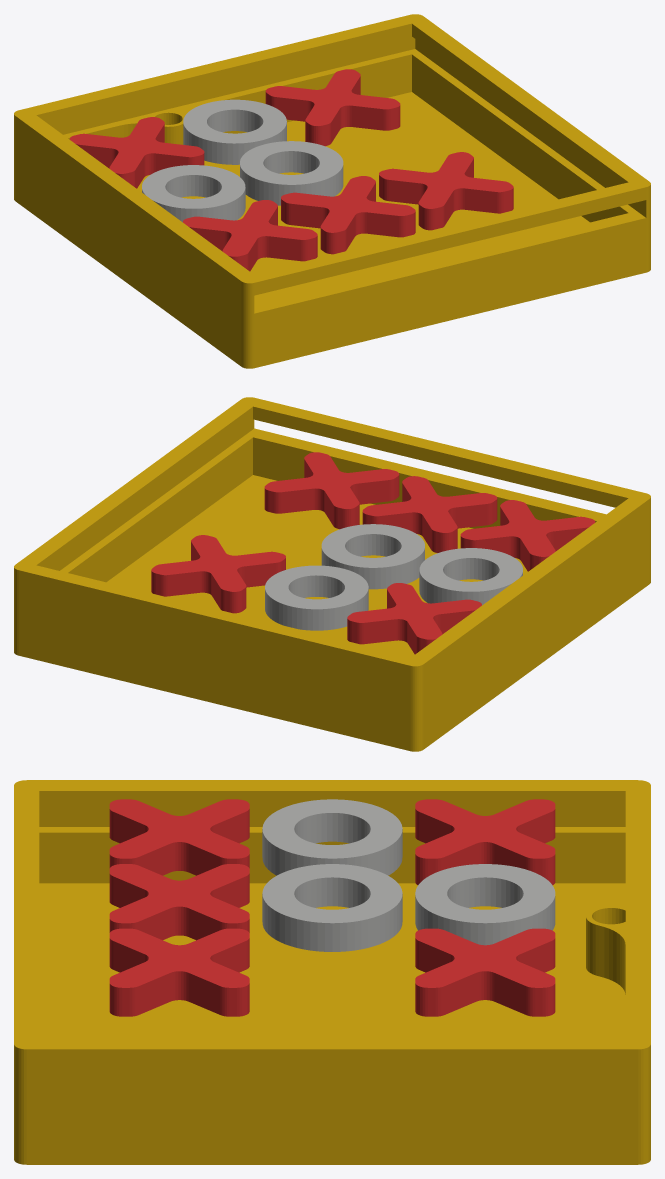
File: tictactoe.glb
The picture shows the model from 3 angles, top to bottom: view 1: azimuth 30°, elevation 25°; view 2: azimuth 150°, elevation 25°; view 3: azimuth 270°, elevation 25°; orthographic projection. The views are drawn at different scales.
Visible parts, largest first — view 1: tictactoe; view 2: tictactoe; view 3: tictactoe.
Part boxes in pixels (x1,y1,x2,y2): tictactoe: (14,14,650,368); tictactoe: (14,397,650,751); tictactoe: (14,780,650,1164).
Bounding box in the file's own units: 100 × 20 × 100.
